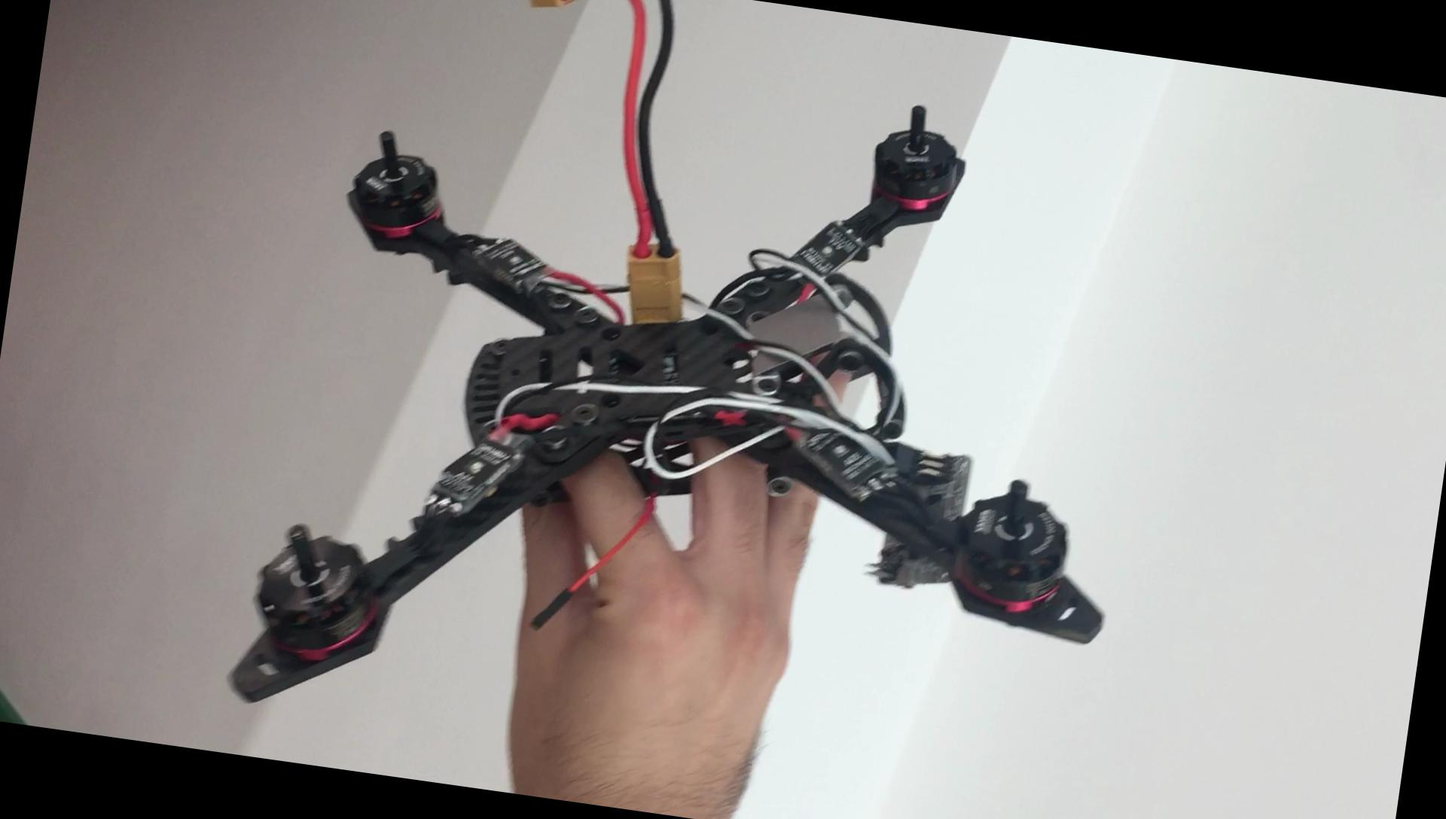drone: (195, 9, 1198, 819)
